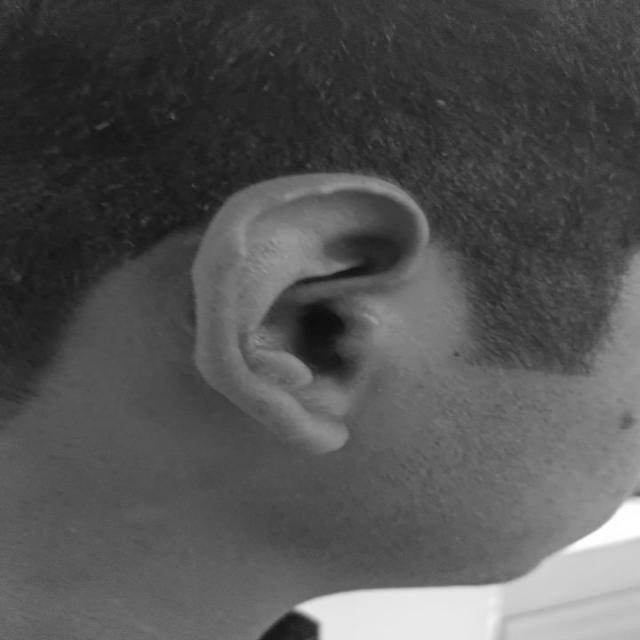ear: (192, 173, 428, 454)
